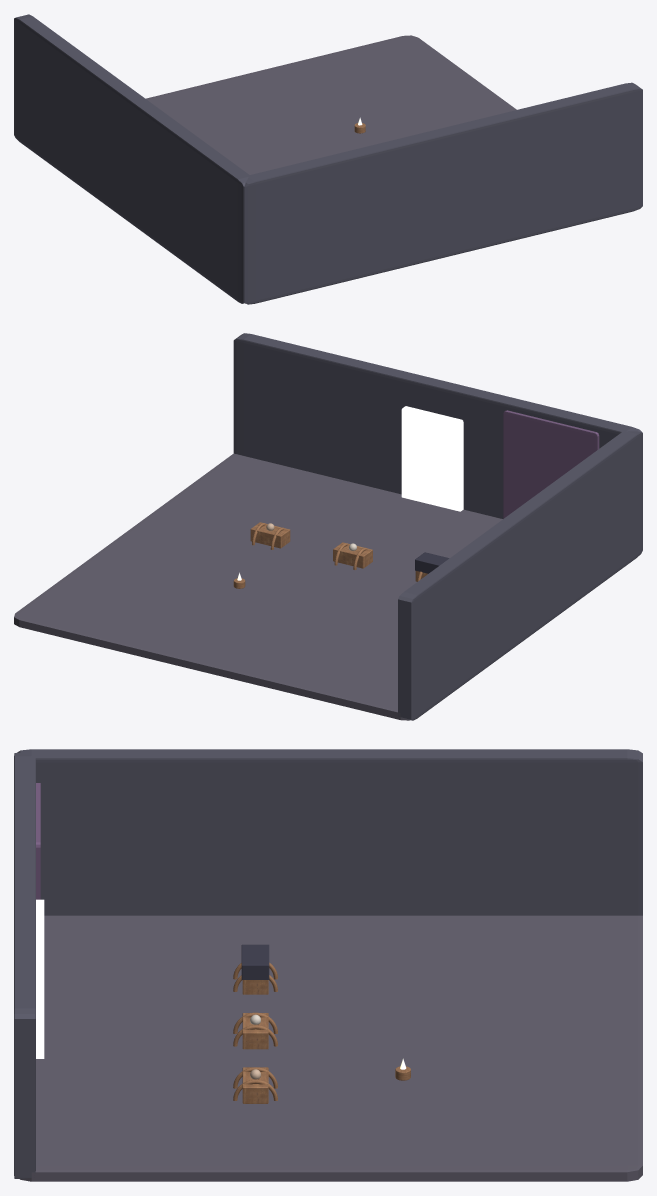
File: adi-05-vyasa-line.glb
3 renders of one model, top to bottom at view 1: azimuth 30°, elevation 25°; view 2: azimuth 150°, elevation 25°; view 3: azimuth 270°, elevation 25°, orthographic. The views are drawn at different scales.
Parts seen in each view (by area): view 1: GEO-rearwall, GEO-sidewall, GEO-floor; view 2: GEO-floor, GEO-sidewall, GEO-rearwall, GEO-drape, GEO-doorway, GEO-cradle2, GEO-cradle1; view 3: GEO-floor, GEO-sidewall, GEO-rearwall, GEO-doorway, GEO-cover0, GEO-cradle1, GEO-cradle2.
Boxes of the visible parts, box(x1,y1,x2,y2) form: GEO-rearwall: box(244, 82, 642, 304); GEO-sidewall: box(14, 14, 250, 303); GEO-floor: box(146, 35, 516, 303); GEO-floor: box(14, 453, 502, 720); GEO-sidewall: box(398, 431, 642, 720); GEO-rearwall: box(233, 333, 642, 518); GEO-drape: box(503, 410, 599, 518); GEO-doorway: box(401, 406, 463, 511); GEO-cradle2: box(250, 522, 290, 548); GEO-cradle1: box(333, 542, 372, 568); GEO-floor: box(20, 915, 642, 1181); GEO-sidewall: box(17, 749, 642, 915); GEO-rearwall: box(14, 753, 35, 1178); GEO-doorway: box(36, 899, 44, 1058); GEO-cover0: box(241, 944, 269, 979); GEO-cradle1: box(242, 1013, 268, 1049); GEO-cradle2: box(242, 1067, 268, 1103).
Size of the model in its own units: 34.1 by 10.62 by 34.1.
Materials: 9 (1 with a texture image).
